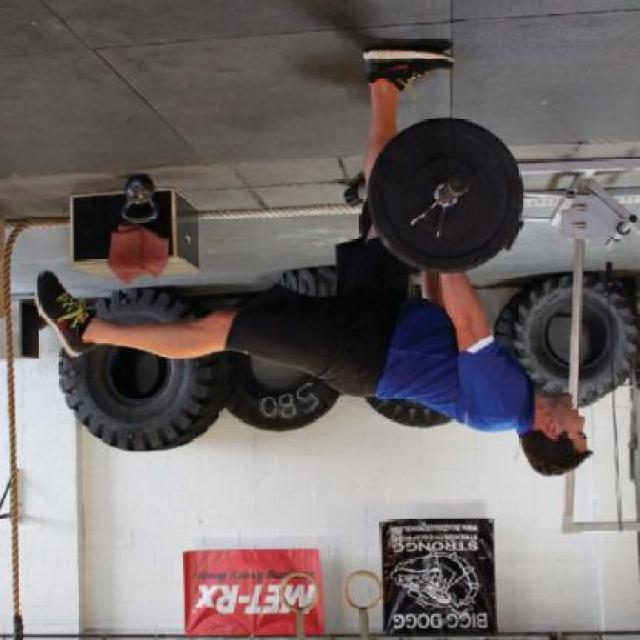Barbell: (446, 170, 472, 198)
